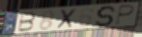6: (77, 7, 95, 28)
8: (39, 9, 57, 31)
B: (16, 11, 38, 33)
P: (114, 4, 136, 26)
S: (95, 5, 119, 27)
X: (55, 7, 79, 31)
